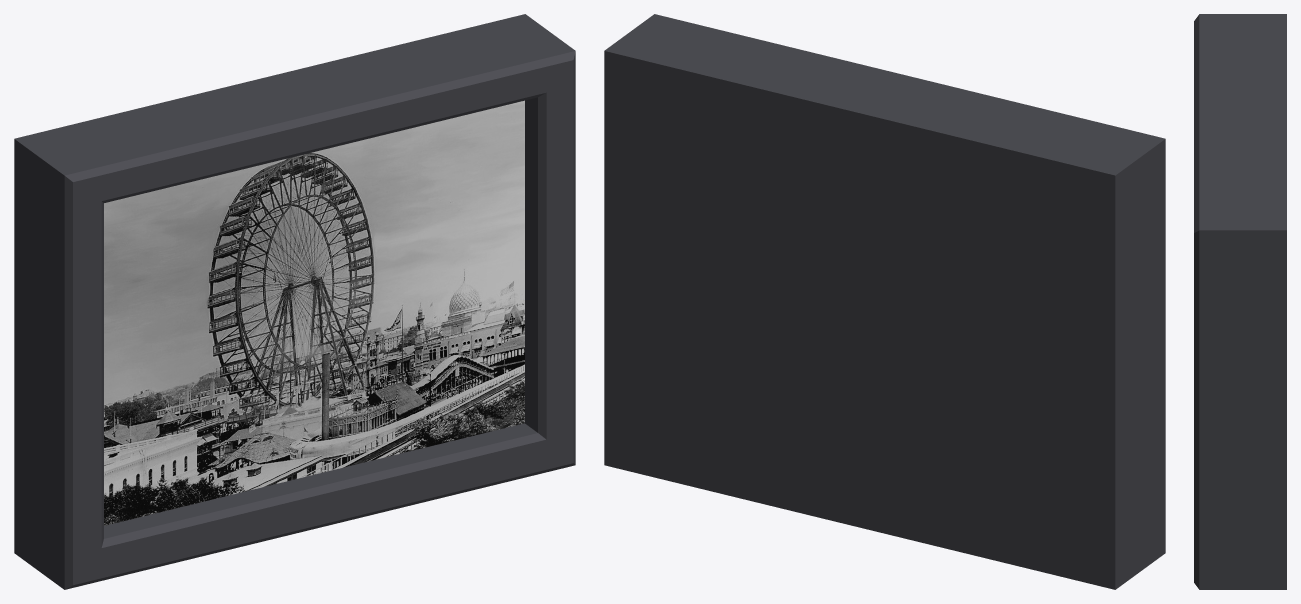
Rendered from original_ferris_wheel.fbx.
The picture shows the model from 3 angles, left to right: view 1: azimuth 30°, elevation 25°; view 2: azimuth 150°, elevation 25°; view 3: azimuth 270°, elevation 25°; orthographic projection. The views are drawn at different scales.
Visible parts, largest first — view 1: OGFerrisWheel; view 2: OGFerrisWheel; view 3: OGFerrisWheel.
Boxes of the visible parts, x1,y1,x2,y2 form: OGFerrisWheel: (14, 14, 575, 589); OGFerrisWheel: (604, 14, 1165, 589); OGFerrisWheel: (1194, 14, 1286, 589).
Bounding box in the file's own units: 2.81 × 2.18 × 0.5089.
2 materials, 1 textured.
